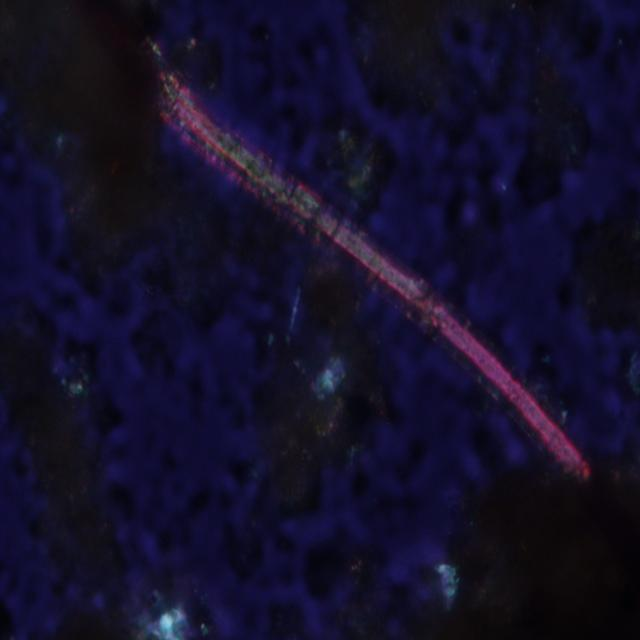Background material: (0, 299, 212, 634), (247, 284, 398, 490), (349, 0, 506, 160), (567, 182, 640, 344)
Microfibre: (148, 61, 592, 484)
